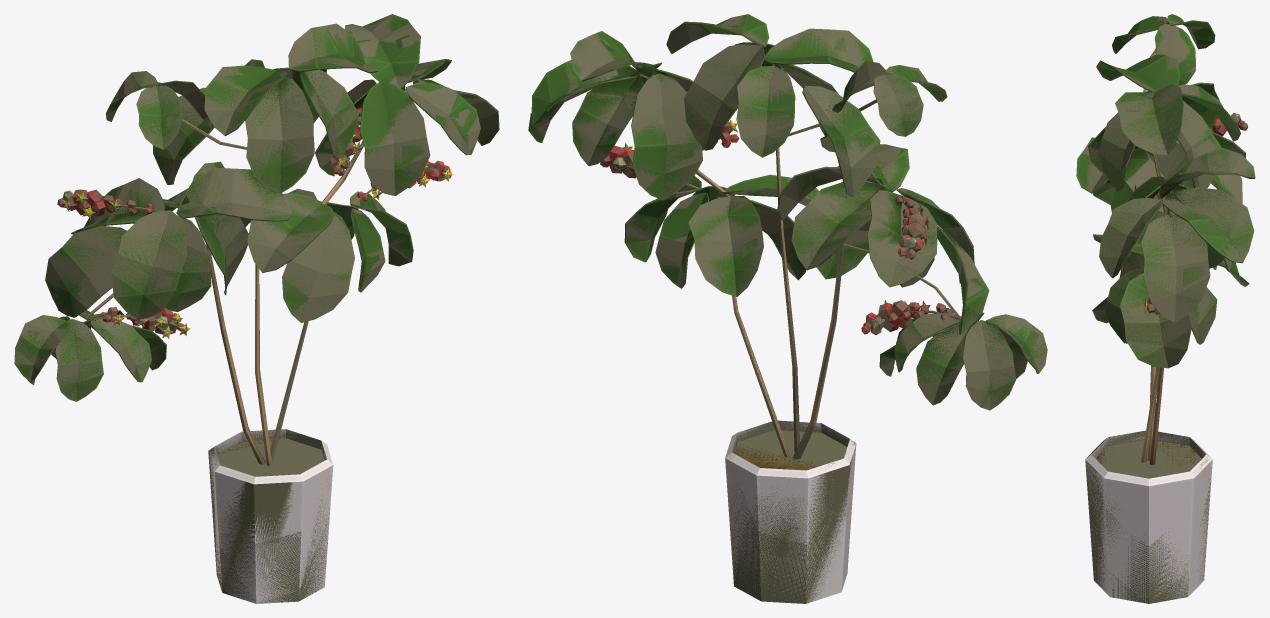
File: coffee_plant_sasha_an (1).glb
The picture shows the model from 3 angles, left to right: view 1: azimuth 30°, elevation 25°; view 2: azimuth 150°, elevation 25°; view 3: azimuth 270°, elevation 25°; orthographic projection. The views are drawn at different scales.
Visible parts, largest first — view 1: Null_1, CoffePlant_mehs, pCylinder3_18; view 2: Null_1, CoffePlant_mehs, pCylinder3_18; view 3: Null_1, pCylinder3_18, CoffePlant_mehs.
Boxes of the visible parts, left/top/right/bottom form: Null_1: left=14, top=14, right=499, bottom=603; CoffePlant_mehs: left=14, top=15, right=499, bottom=597; pCylinder3_18: left=14, top=14, right=498, bottom=603; Null_1: left=530, top=15, right=1047, bottom=603; CoffePlant_mehs: left=528, top=14, right=1047, bottom=600; pCylinder3_18: left=530, top=17, right=1042, bottom=603; Null_1: left=1081, top=16, right=1254, bottom=603; pCylinder3_18: left=1081, top=16, right=1254, bottom=602; CoffePlant_mehs: left=1076, top=14, right=1255, bottom=602.
Size of the model in its own units: 169 by 180 by 56.15.
Materials: 2 (1 with a texture image).
